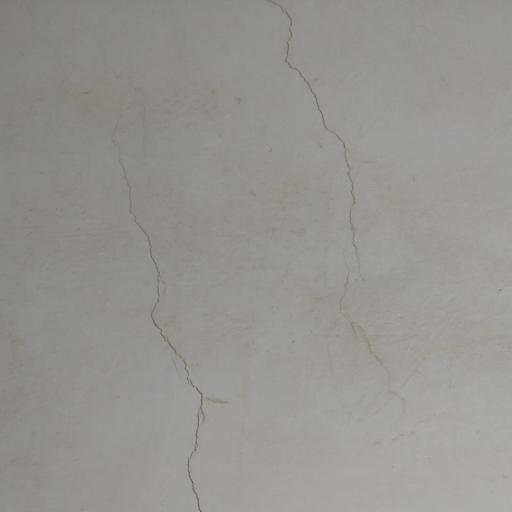minor_crack: (81, 125, 242, 512), (266, 0, 415, 408)
